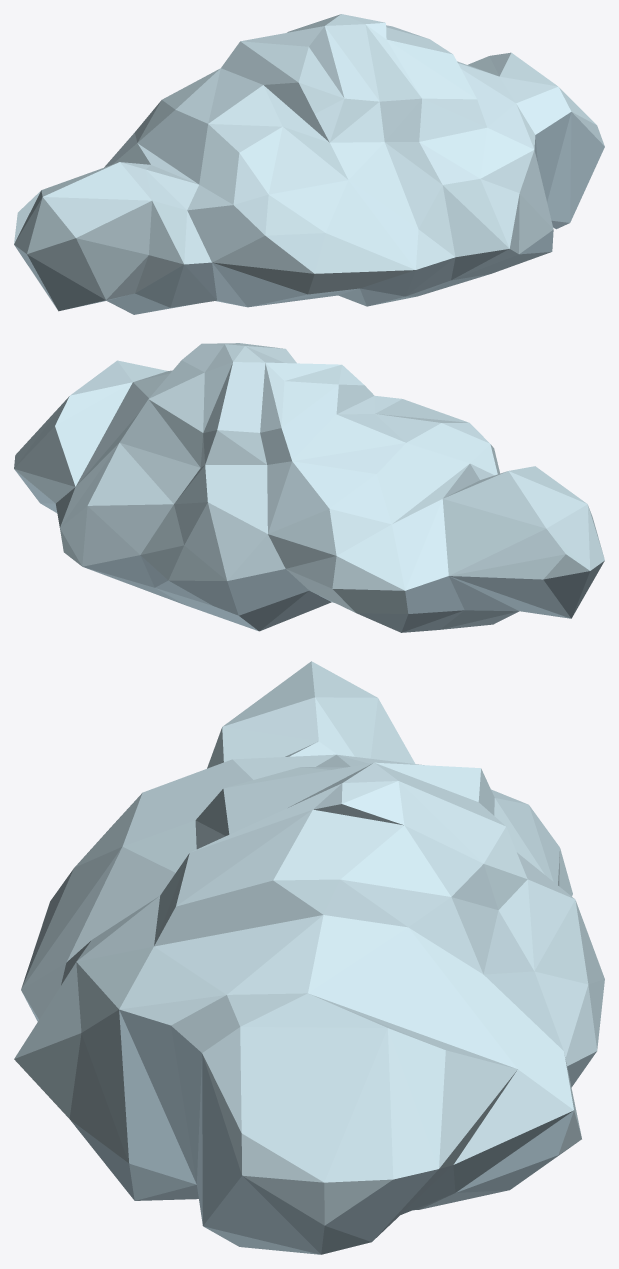
Rendered from SM_Env_Cloud_05.fbx.
3 views of the same model, one above another, from view 1: azimuth 30°, elevation 25°; view 2: azimuth 150°, elevation 25°; view 3: azimuth 270°, elevation 25° (orthographic). The views are drawn at different scales.
Visible parts, largest first — view 1: SM_Env_Cloud_05; view 2: SM_Env_Cloud_05; view 3: SM_Env_Cloud_05.
Boxes of the visible parts, box(x1,y1,x2,y2) form: SM_Env_Cloud_05: box(14, 14, 604, 314); SM_Env_Cloud_05: box(14, 343, 604, 632); SM_Env_Cloud_05: box(14, 661, 604, 1254).
Bounding box in the file's own units: 0.087 × 0.0365 × 0.0502.
Materials: 1 (1 with a texture image).
